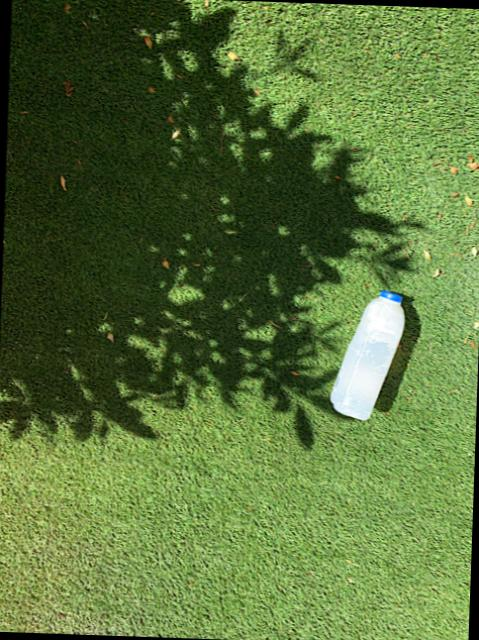plastic: (332, 291, 405, 420)
